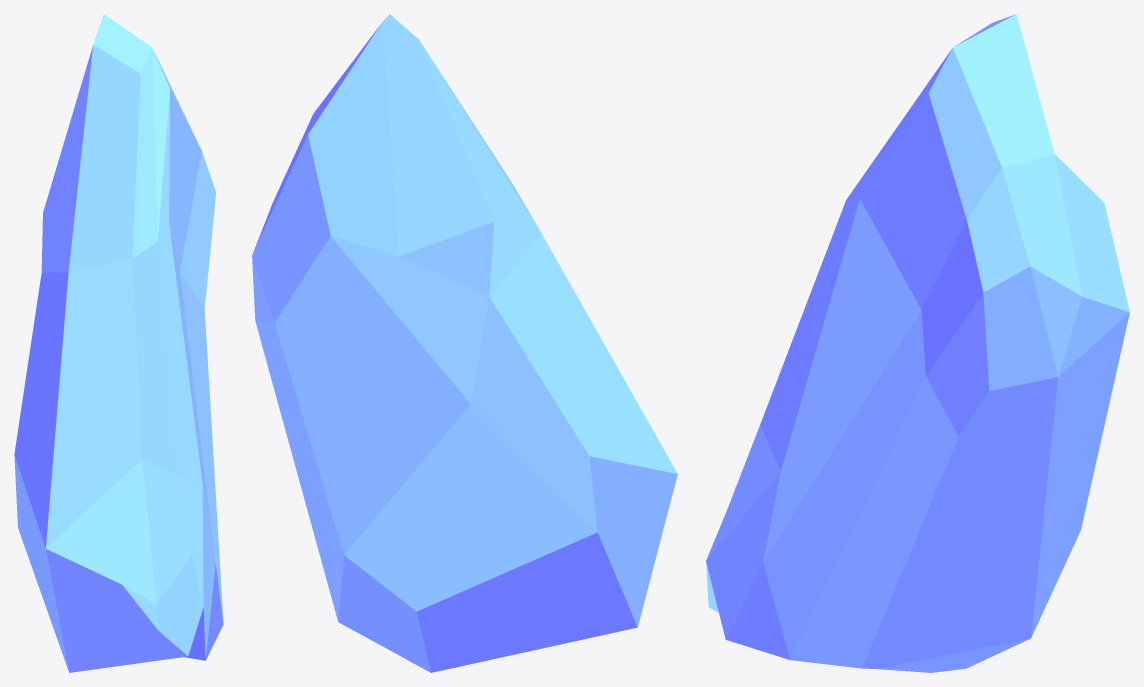
The model's file is ROCHEAIGUE2.fbx.
3 views of the same model, side by side, from view 1: azimuth 30°, elevation 25°; view 2: azimuth 150°, elevation 25°; view 3: azimuth 270°, elevation 25° (orthographic). The views are drawn at different scales.
Parts seen in each view (by area): view 1: RochéAigue.2; view 2: RochéAigue.2; view 3: RochéAigue.2.
Part boxes in pixels (box(x1,y1,x2,y2)): RochéAigue.2: box(14, 14, 223, 672); RochéAigue.2: box(252, 14, 677, 672); RochéAigue.2: box(706, 14, 1129, 672).
Bounding box in the file's own units: 469 × 1009 × 582.
